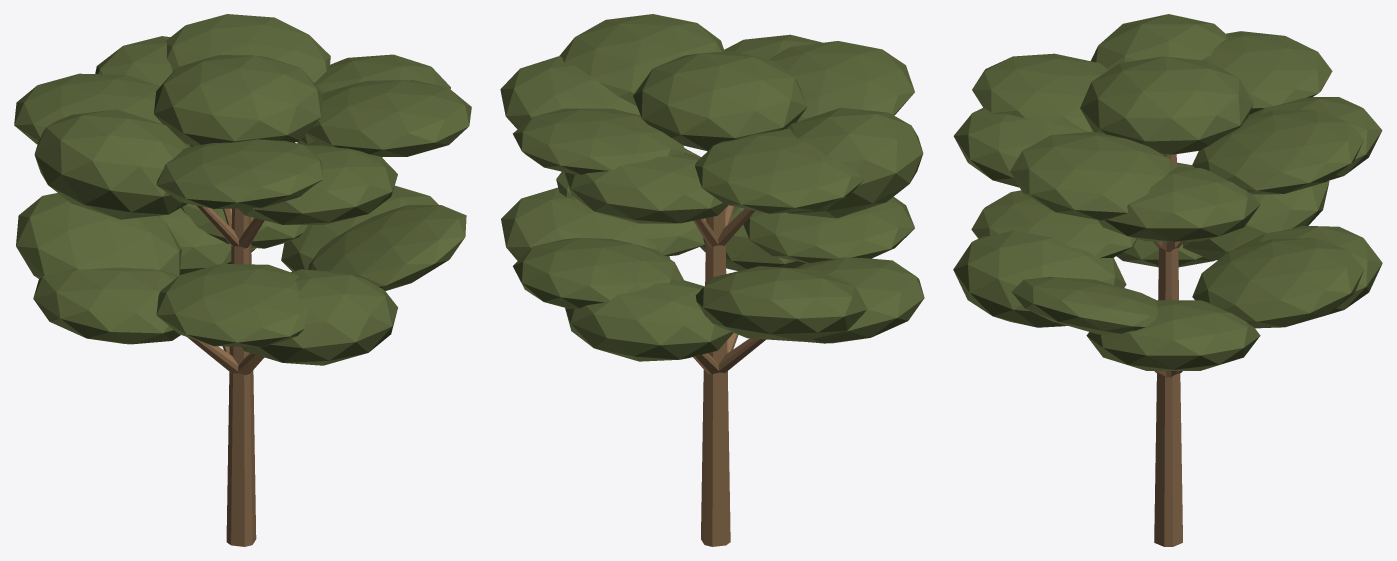
The model's file is pohon 4.fbx.
3 views of the same model, side by side, from view 1: azimuth 30°, elevation 25°; view 2: azimuth 150°, elevation 25°; view 3: azimuth 270°, elevation 25° (orthographic).
Parts seen in each view (by area): view 1: Icosphere.016, Icosphere.010, Icosphere.005, Icosphere.012, Icosphere.006, Icosphere.013, Icosphere.004, Icosphere.002, Icosphere.001, Icosphere.009, Icosphere.015, Cube (+8 smaller); view 2: Icosphere.016, Icosphere.006, Icosphere.014, Icosphere.003, Icosphere.010, Icosphere.007, Icosphere.015, Icosphere.012, Icosphere.013, Icosphere.011, Icosphere.005, Cube (+7 smaller); view 3: Icosphere.016, Icosphere.007, Icosphere.012, Icosphere.015, Icosphere.001, Icosphere, Icosphere.008, Icosphere.013, Icosphere.014, Icosphere.004, Cube, Icosphere.005 (+6 smaller).
Part boxes in pixels (x1,y1,x2,y2): Icosphere.016: (154,55,323,145); Icosphere.010: (34,109,190,219); Icosphere.005: (156,263,307,347); Icosphere.012: (306,80,471,157); Icosphere.006: (16,193,181,279); Icosphere.013: (156,139,323,208); Icosphere.004: (308,205,466,290); Icosphere.002: (33,267,180,344); Icosphere.001: (241,269,397,365); Icosphere.009: (238,145,397,224); Icosphere.015: (165,14,330,83); Cube: (226,208,256,546); Icosphere.016: (633,51,807,151); Icosphere.006: (695,266,866,341); Icosphere.014: (695,128,863,213); Icosphere.003: (565,280,733,361); Icosphere.010: (786,107,923,218); Icosphere.007: (513,237,684,309); Icosphere.015: (512,108,686,174); Icosphere.012: (559,14,724,105); Icosphere.013: (769,41,914,121); Icosphere.011: (564,153,728,223); Icosphere.005: (743,196,914,263); Cube: (701,209,730,546); Icosphere.016: (1080,56,1253,155); Icosphere.007: (1192,238,1363,328); Icosphere.012: (1010,132,1175,220); Icosphere.015: (1192,110,1363,194); Icosphere.001: (953,230,1126,327); Icosphere: (1086,300,1260,370); Icosphere.008: (1098,167,1260,241); Icosphere.013: (972,53,1108,131); Icosphere.014: (1202,31,1332,114); Icosphere.004: (1012,277,1157,334); Cube: (1154,154,1182,546); Icosphere.005: (971,190,1136,258).
Bounding box in the file's own units: 516 × 594 × 493.
